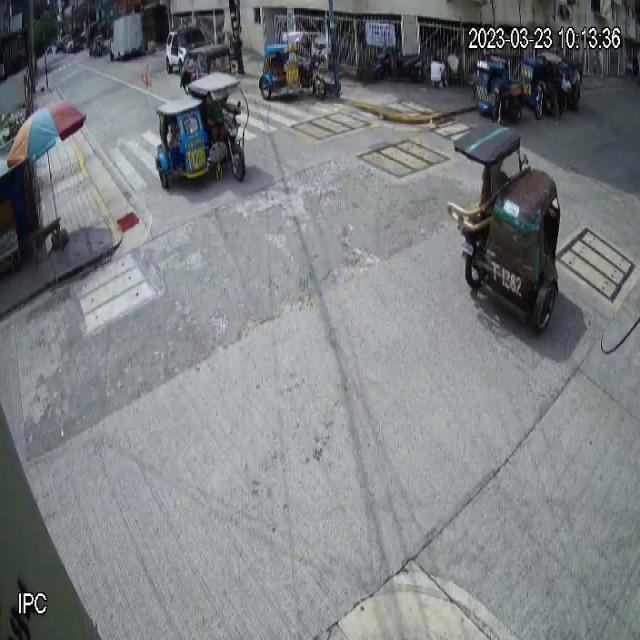Tricycle: (447, 123, 561, 333), (155, 72, 250, 192), (258, 29, 327, 102), (474, 48, 525, 124)
